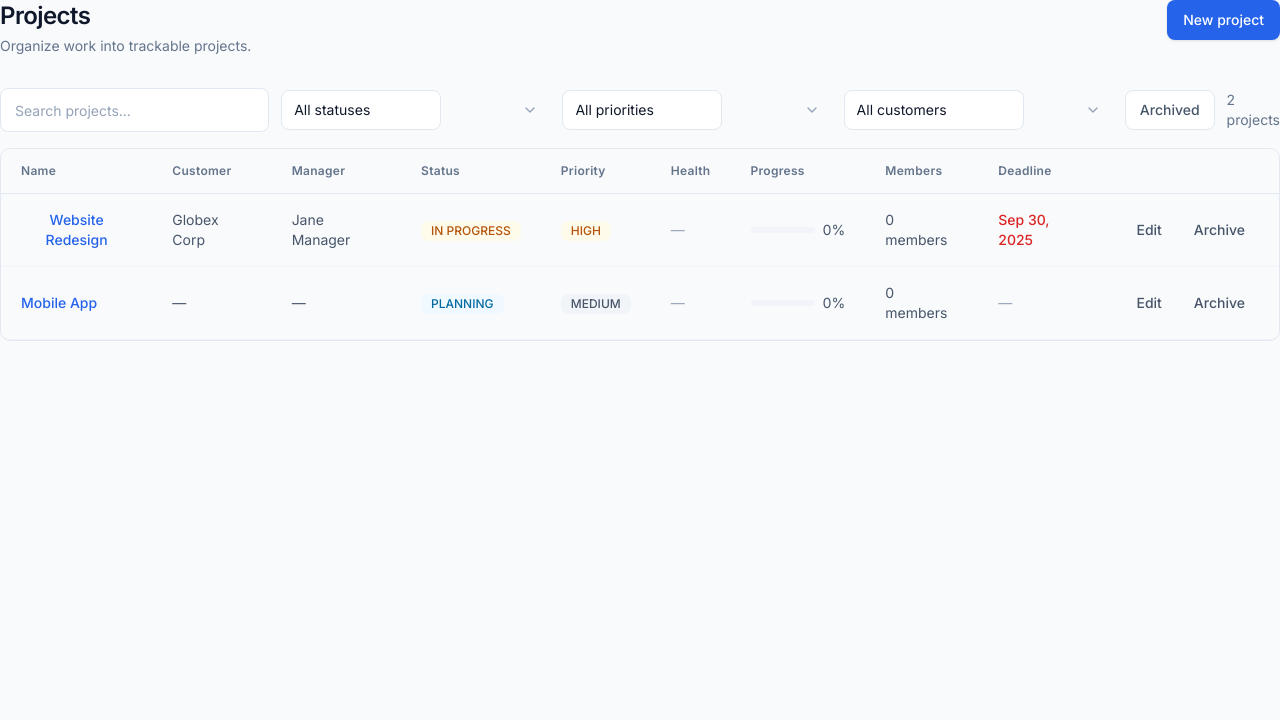
ProjectsPage › Archive button shows confirmation modal
The image size is (1280, 720).
expect the button "Website Redesign" is shown: met, box x1=21 y1=210 x2=132 y2=250
Click the button "Archive" in the row of "Globex Corp" at (1219, 230), box x1=1180 y1=214 x2=1259 y2=246
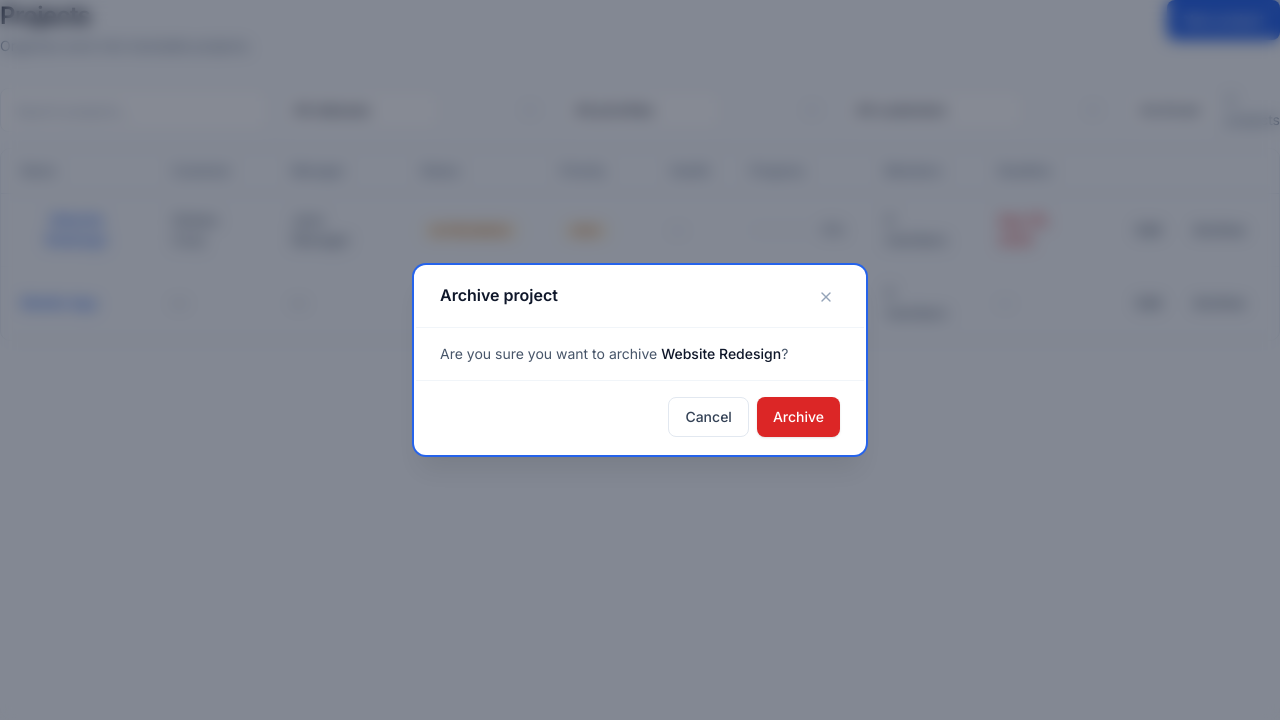
expect the heading "Archive project" is shown: met, box x1=440 y1=283 x2=558 y2=307
expect the text "Are you sure you want to archive Website Redesign?" is shown: met, box x1=440 y1=344 x2=840 y2=364
